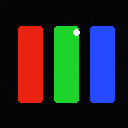0 point: (73, 29, 79, 35)
